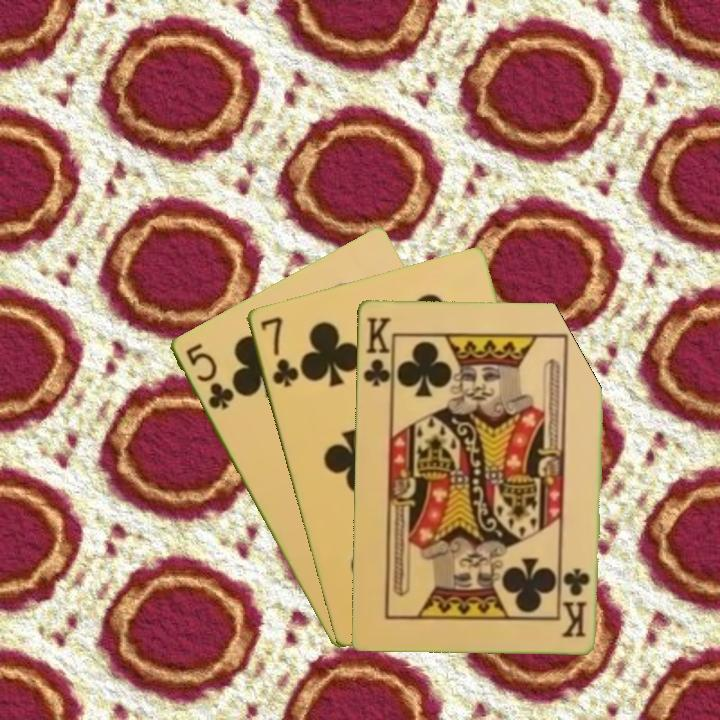5c: (181, 339, 237, 413)
7c: (256, 312, 301, 390)
Kc: (360, 313, 394, 393), (560, 564, 592, 640)
